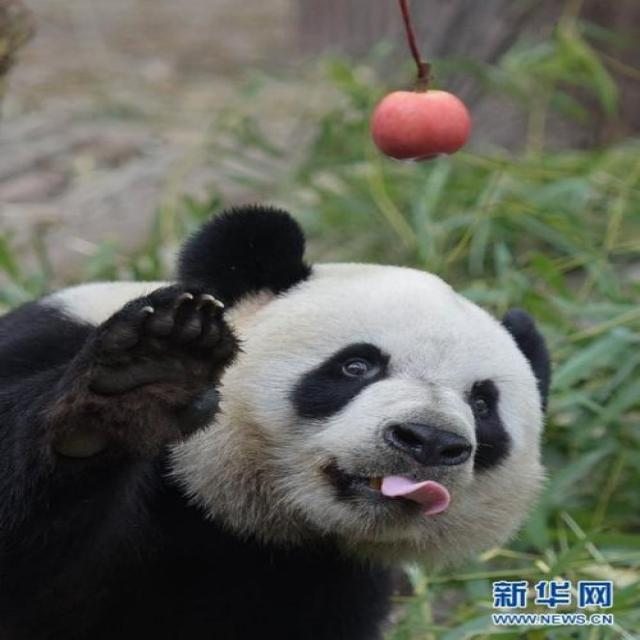panda: (13, 192, 534, 627)
